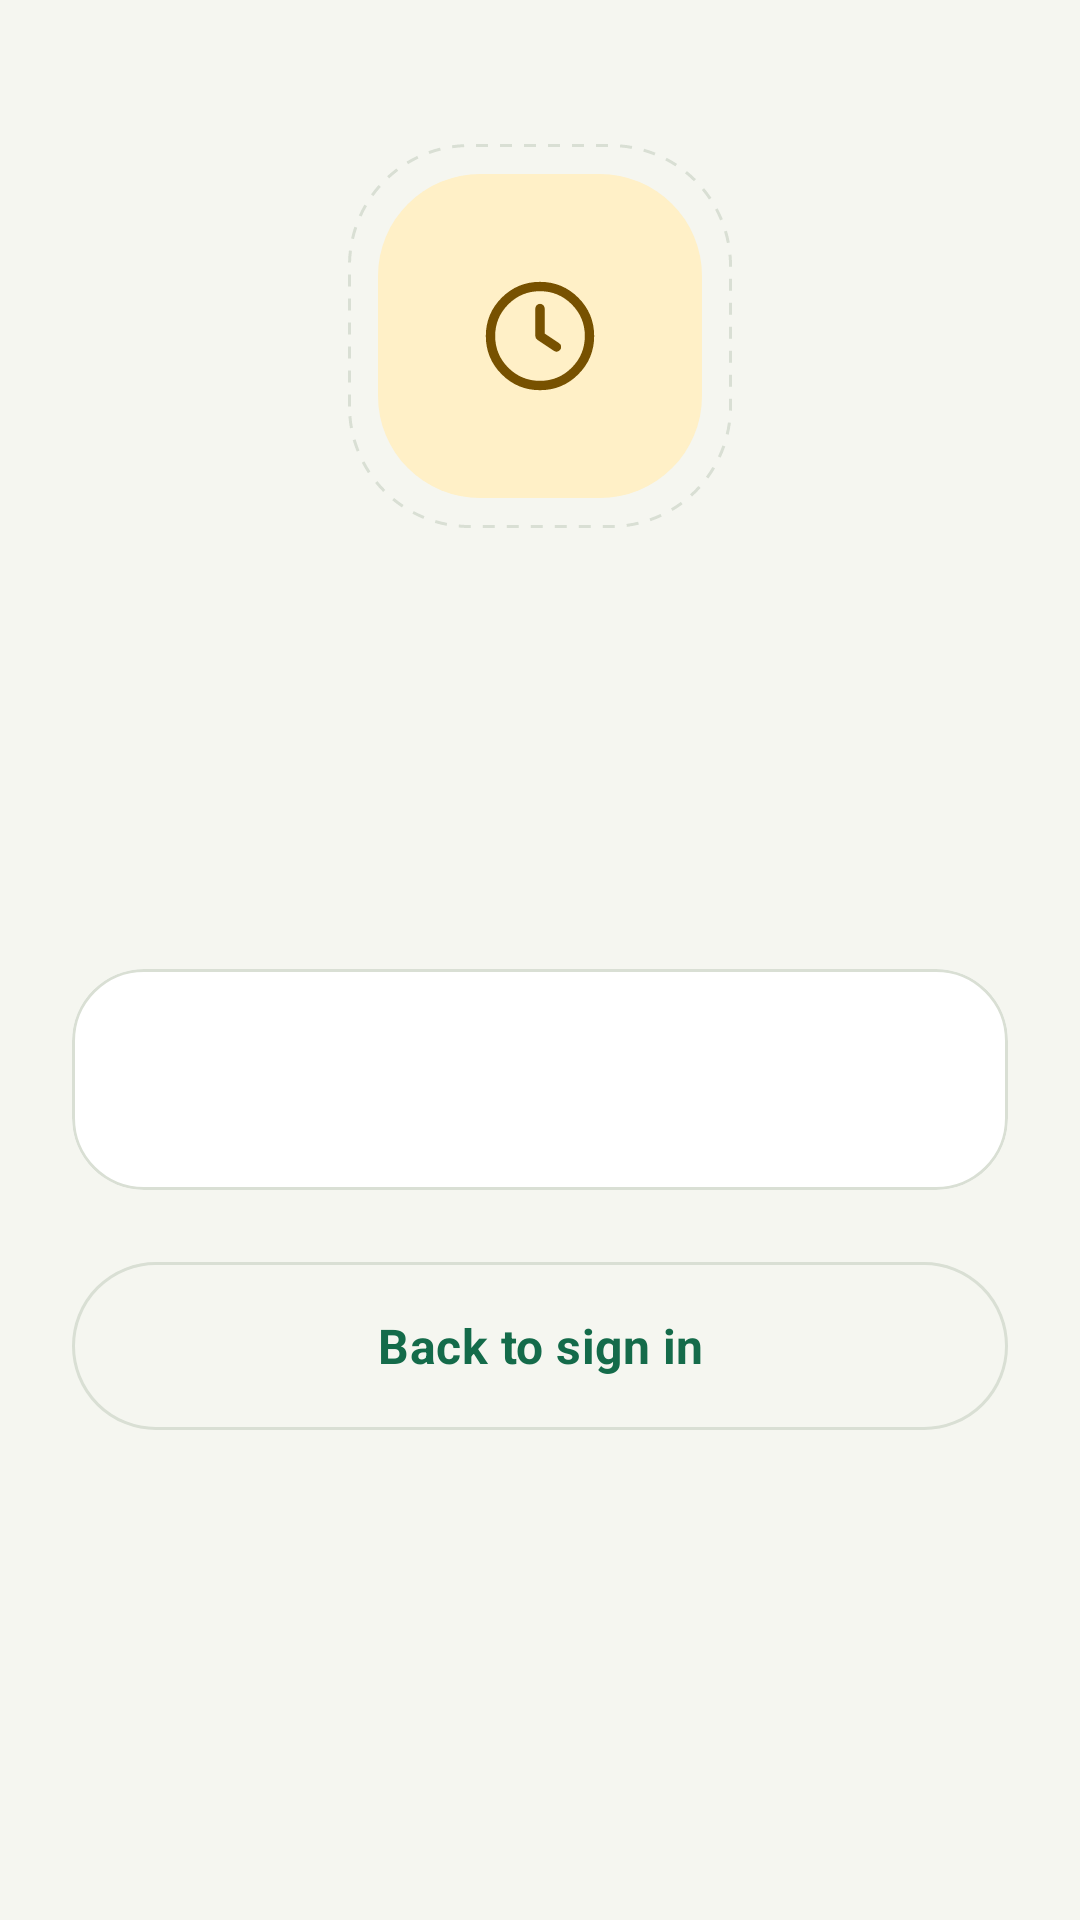

Where icons sit on this 1080px×1920px app screen, as (x1, y1, x2, y2):
clock: (378, 174, 702, 498)
